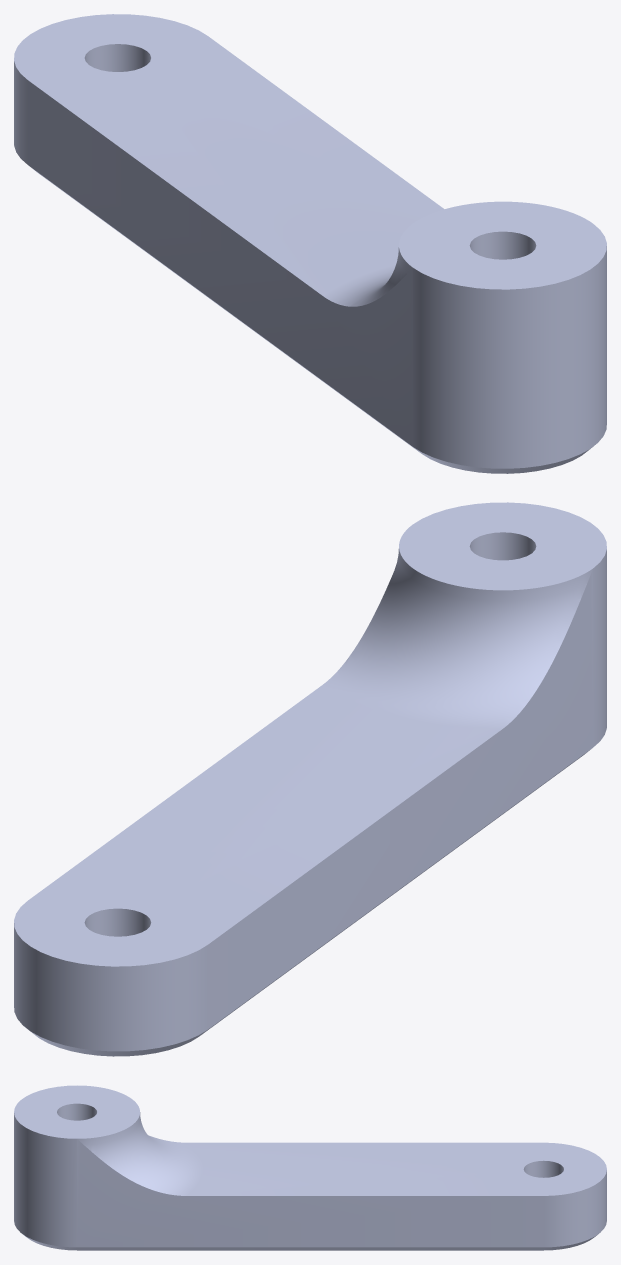
3 renders of one model, top to bottom at view 1: azimuth 30°, elevation 25°; view 2: azimuth 150°, elevation 25°; view 3: azimuth 270°, elevation 25°, orthographic. The views are drawn at different scales.
Visible parts, largest first — view 1: node0; view 2: node0; view 3: node0.
Part boxes in pixels (left/top/right/bottom): node0: left=14, top=14, right=606, bottom=473; node0: left=14, top=502, right=606, bottom=1056; node0: left=14, top=1085, right=606, bottom=1250.
Bounding box in the file's own units: 0.01 × 0.01 × 0.047.
